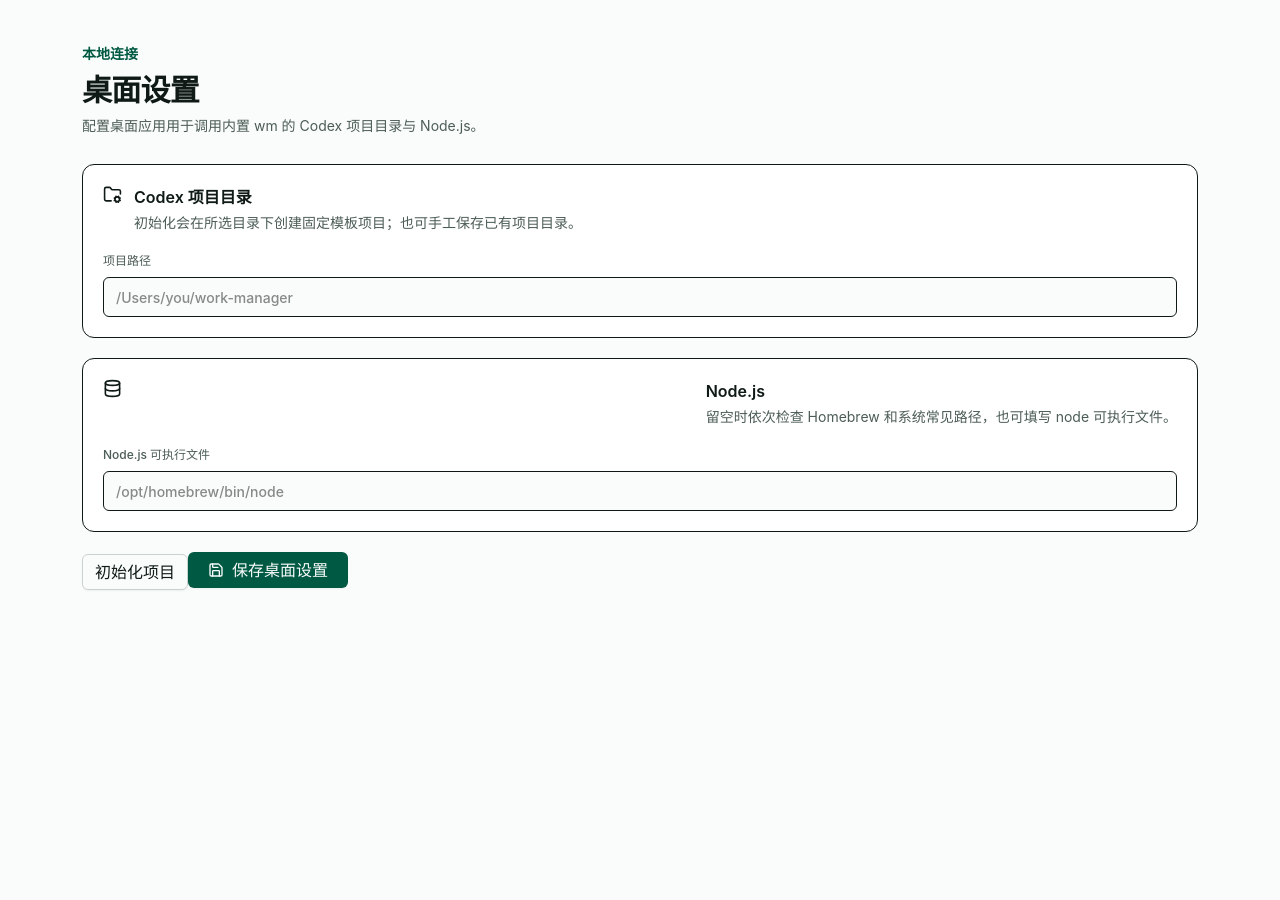
Test: 桌面端任务流 › 未初始化时以 Codex 项目目录引导创建项目
The width and height of the screenshot is (1280, 900).
Click the button "初始化项目" at (135, 572), box [82,554,188,590]
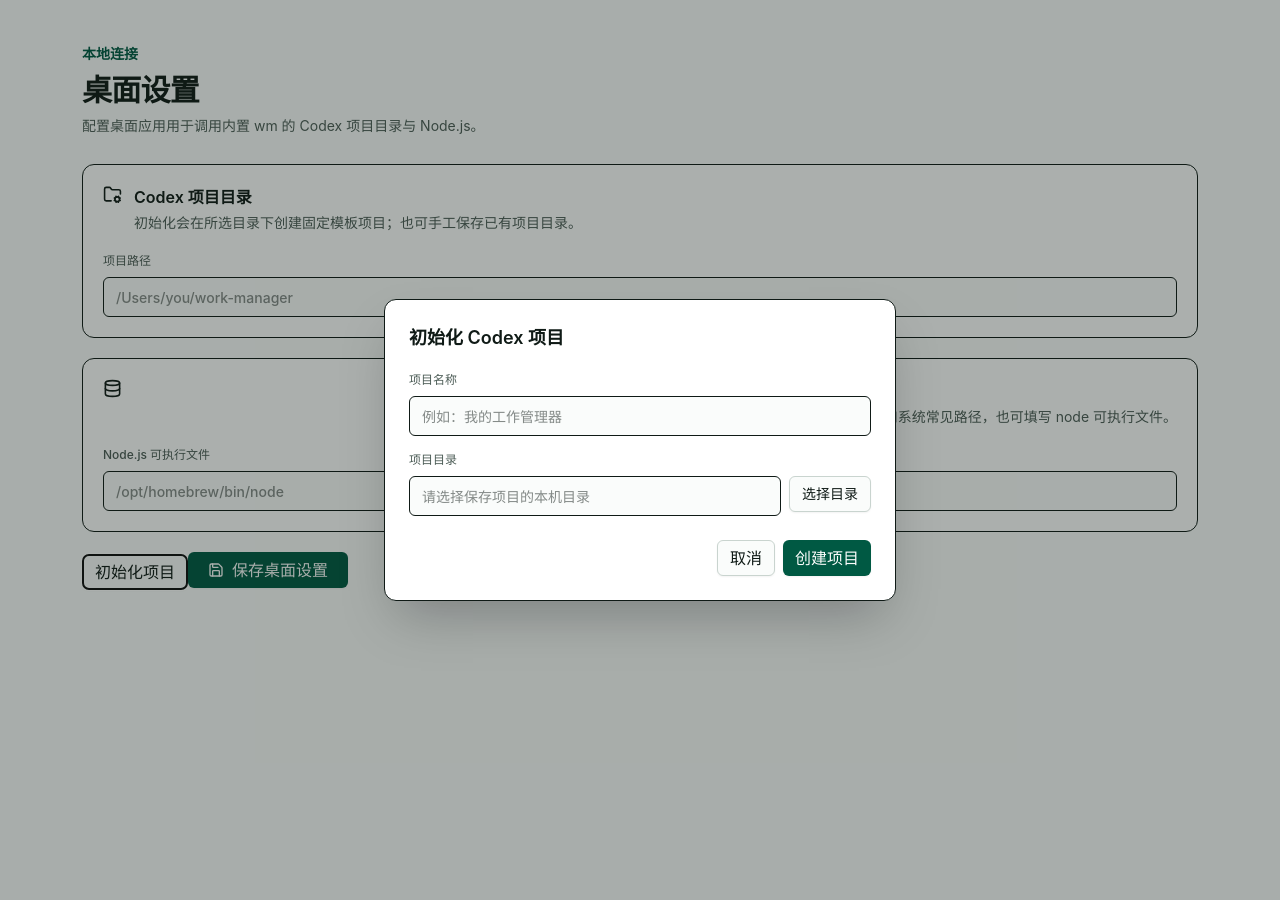
expect the heading "Codex 项目目录" is shown: met, box [134,187,252,207]
expect the dialog "初始化 Codex 项目" is shown: met, box [384,299,896,601]
Type "我的工作台" into the field labelled "项目名称" at (640, 416), box [409,396,871,436]
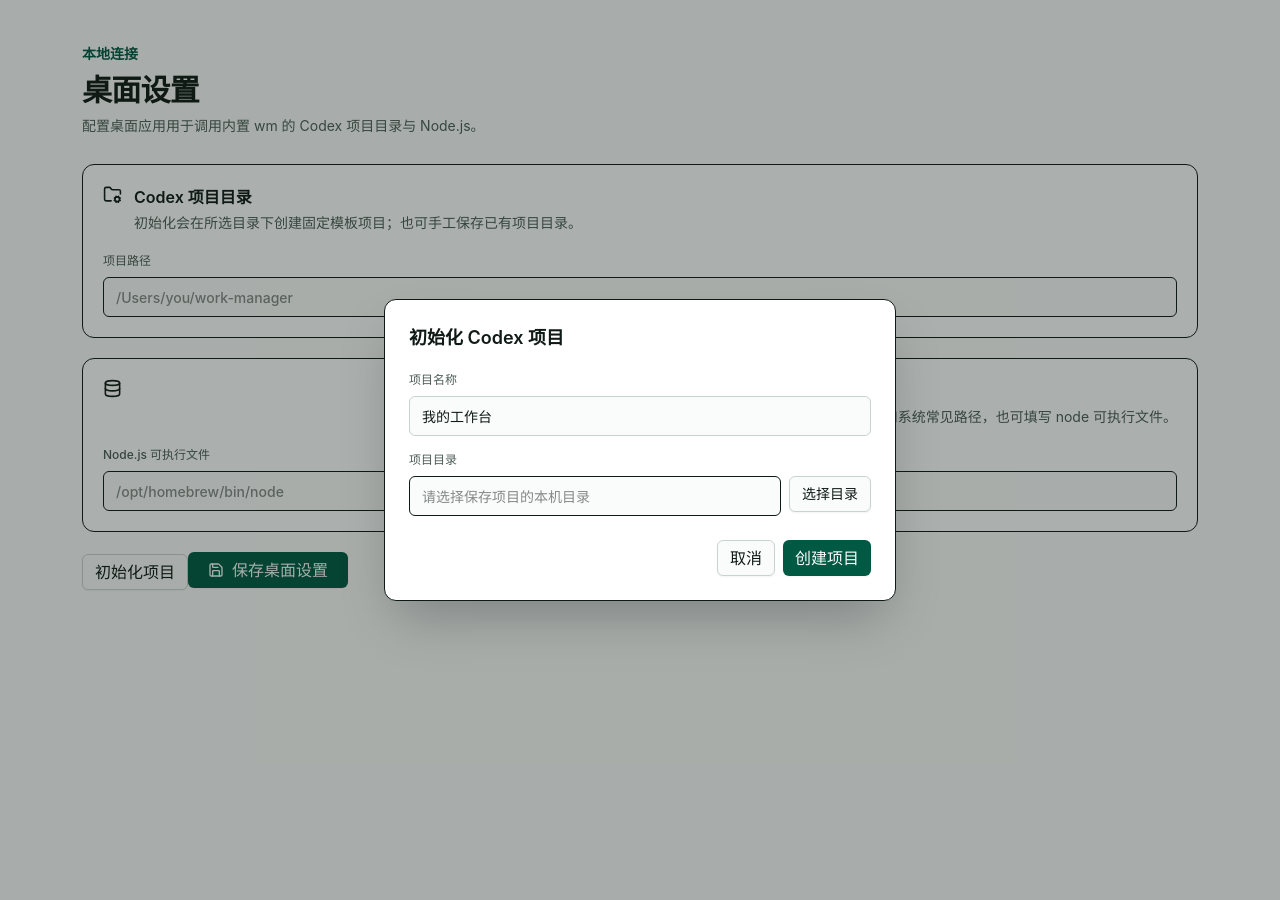
Click the button "创建项目" at (827, 558), box [783,540,871,576]
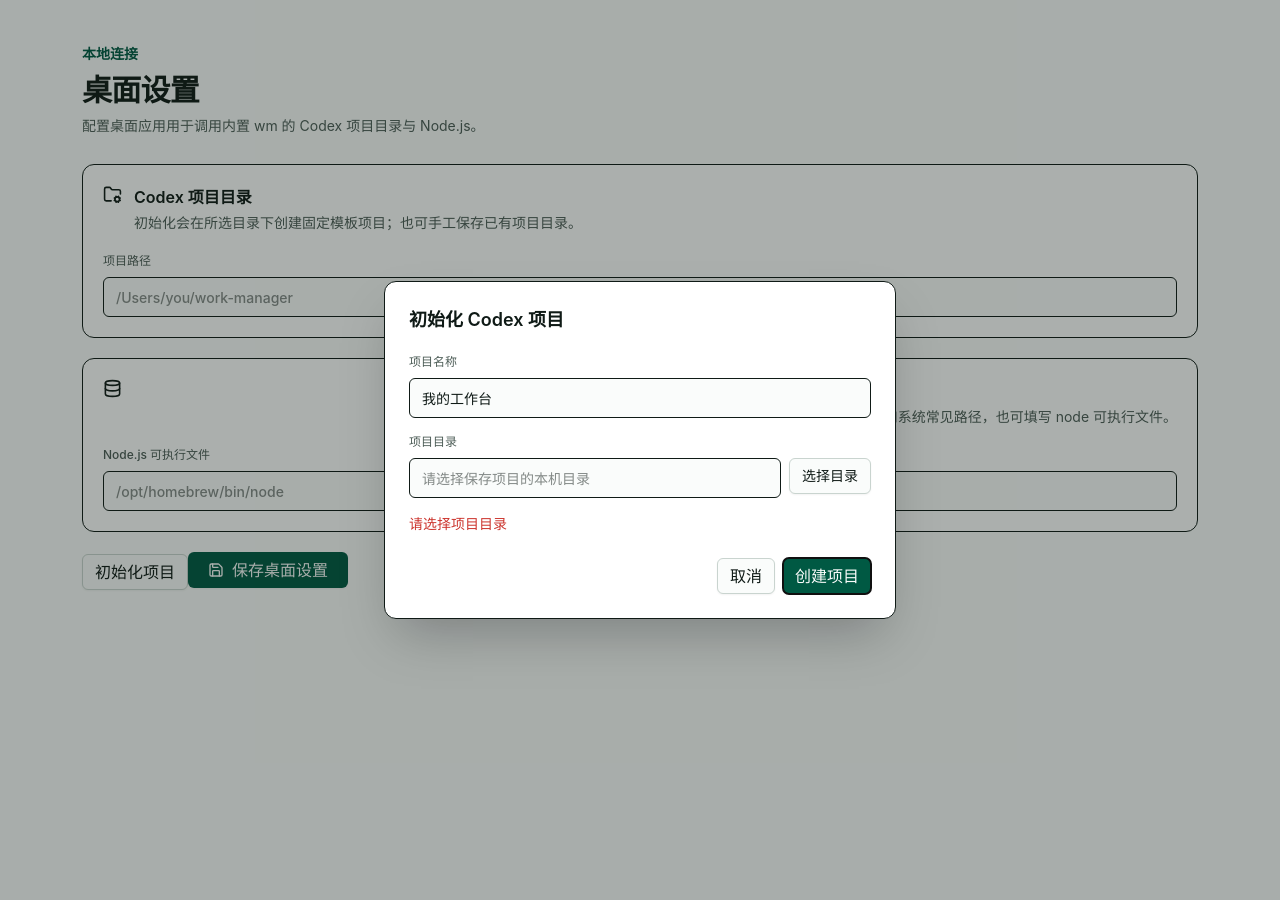
expect the text "请选择项目目录" is shown: met, box [409,515,507,532]
